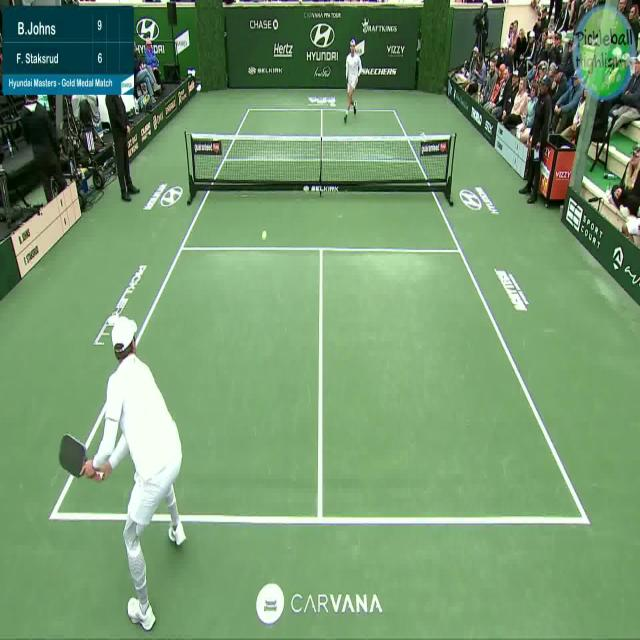ball: (258, 226, 268, 243)
